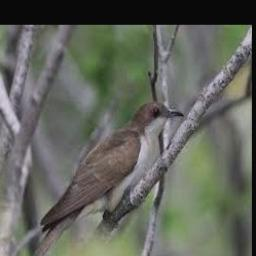Cuckoo: (15, 102, 185, 256)
